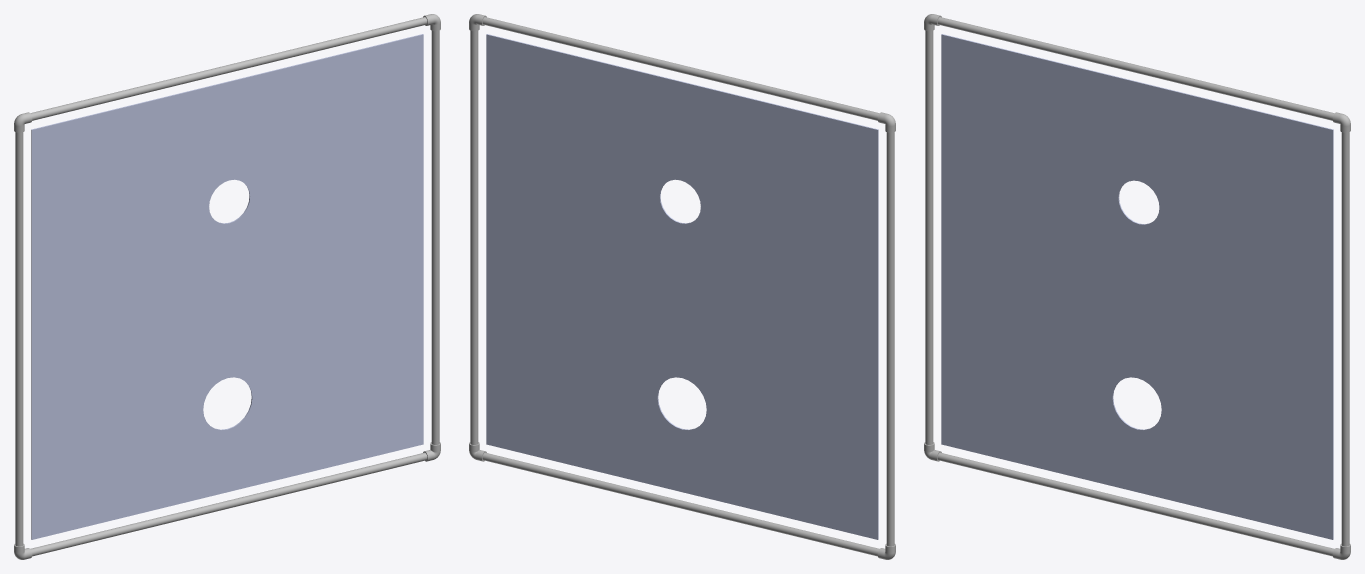
File: affiche 4x4 torpille.fbx
3 renders of one model, left to right at view 1: azimuth 30°, elevation 25°; view 2: azimuth 150°, elevation 25°; view 3: azimuth 330°, elevation 25°, orthographic.
Visible parts, largest first — view 1: Body_1, Body_1_2, Body_1_8, Body_1_5, Body_1_6; view 2: Body_1, Body_1_2, Body_1_8, Body_1_5, Body_1_6; view 3: Body_1, Body_1_8, Body_1_2, Body_1_5, Body_1_6.
Boxes of the visible parts, x1,y1,x2,y2 form: Body_1: [31, 34, 423, 539]; Body_1_2: [15, 132, 23, 546]; Body_1_8: [431, 30, 439, 444]; Body_1_5: [30, 17, 427, 120]; Body_1_6: [30, 452, 427, 556]; Body_1: [486, 34, 878, 539]; Body_1_2: [886, 132, 894, 546]; Body_1_8: [470, 30, 478, 444]; Body_1_5: [482, 17, 879, 120]; Body_1_6: [482, 452, 879, 556]; Body_1: [941, 34, 1333, 539]; Body_1_8: [1341, 132, 1349, 546]; Body_1_2: [925, 30, 933, 444]; Body_1_5: [937, 17, 1334, 120]; Body_1_6: [937, 452, 1334, 556].
Size of the model in its own units: 1.32 by 0.0286 by 1.32.
